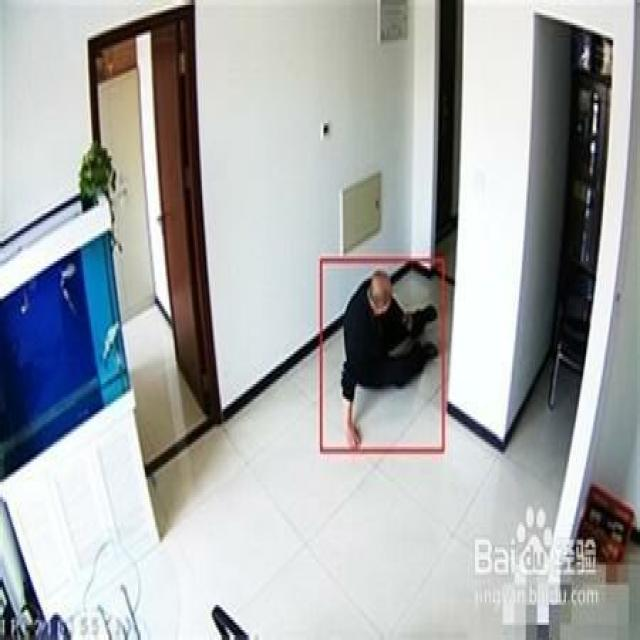down: (330, 261, 441, 454)
